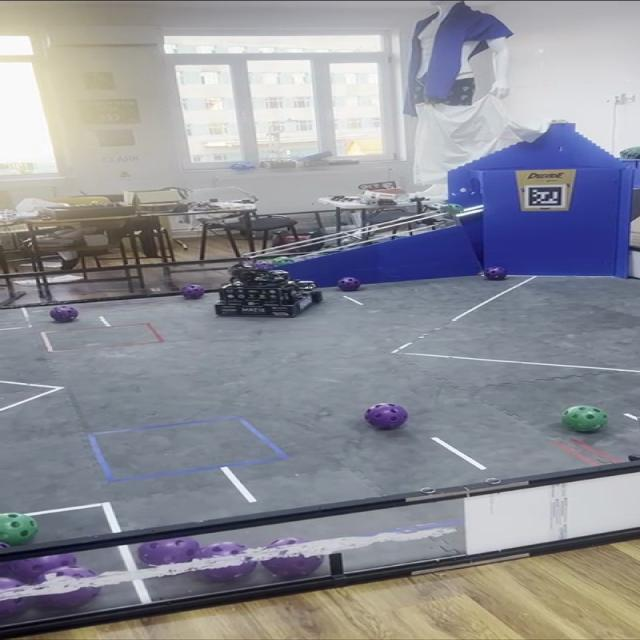artifact_green: (0, 513, 38, 546), (562, 406, 607, 432), (272, 257, 295, 266), (252, 261, 273, 270), (444, 204, 463, 213)
artifact_purple: (7, 554, 77, 583), (138, 538, 199, 565), (36, 587, 101, 609), (200, 558, 257, 582), (262, 555, 323, 577), (364, 404, 407, 429), (0, 598, 26, 617), (50, 306, 78, 322), (336, 277, 361, 291), (182, 285, 205, 299), (484, 267, 507, 280), (252, 261, 274, 270), (0, 562, 13, 577)
